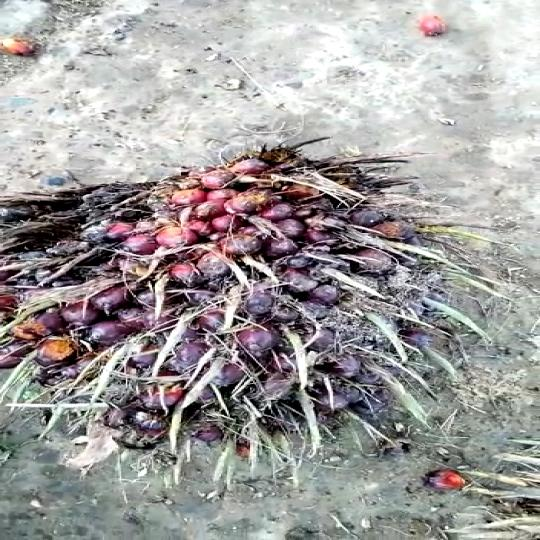masak: (0, 113, 500, 500)
